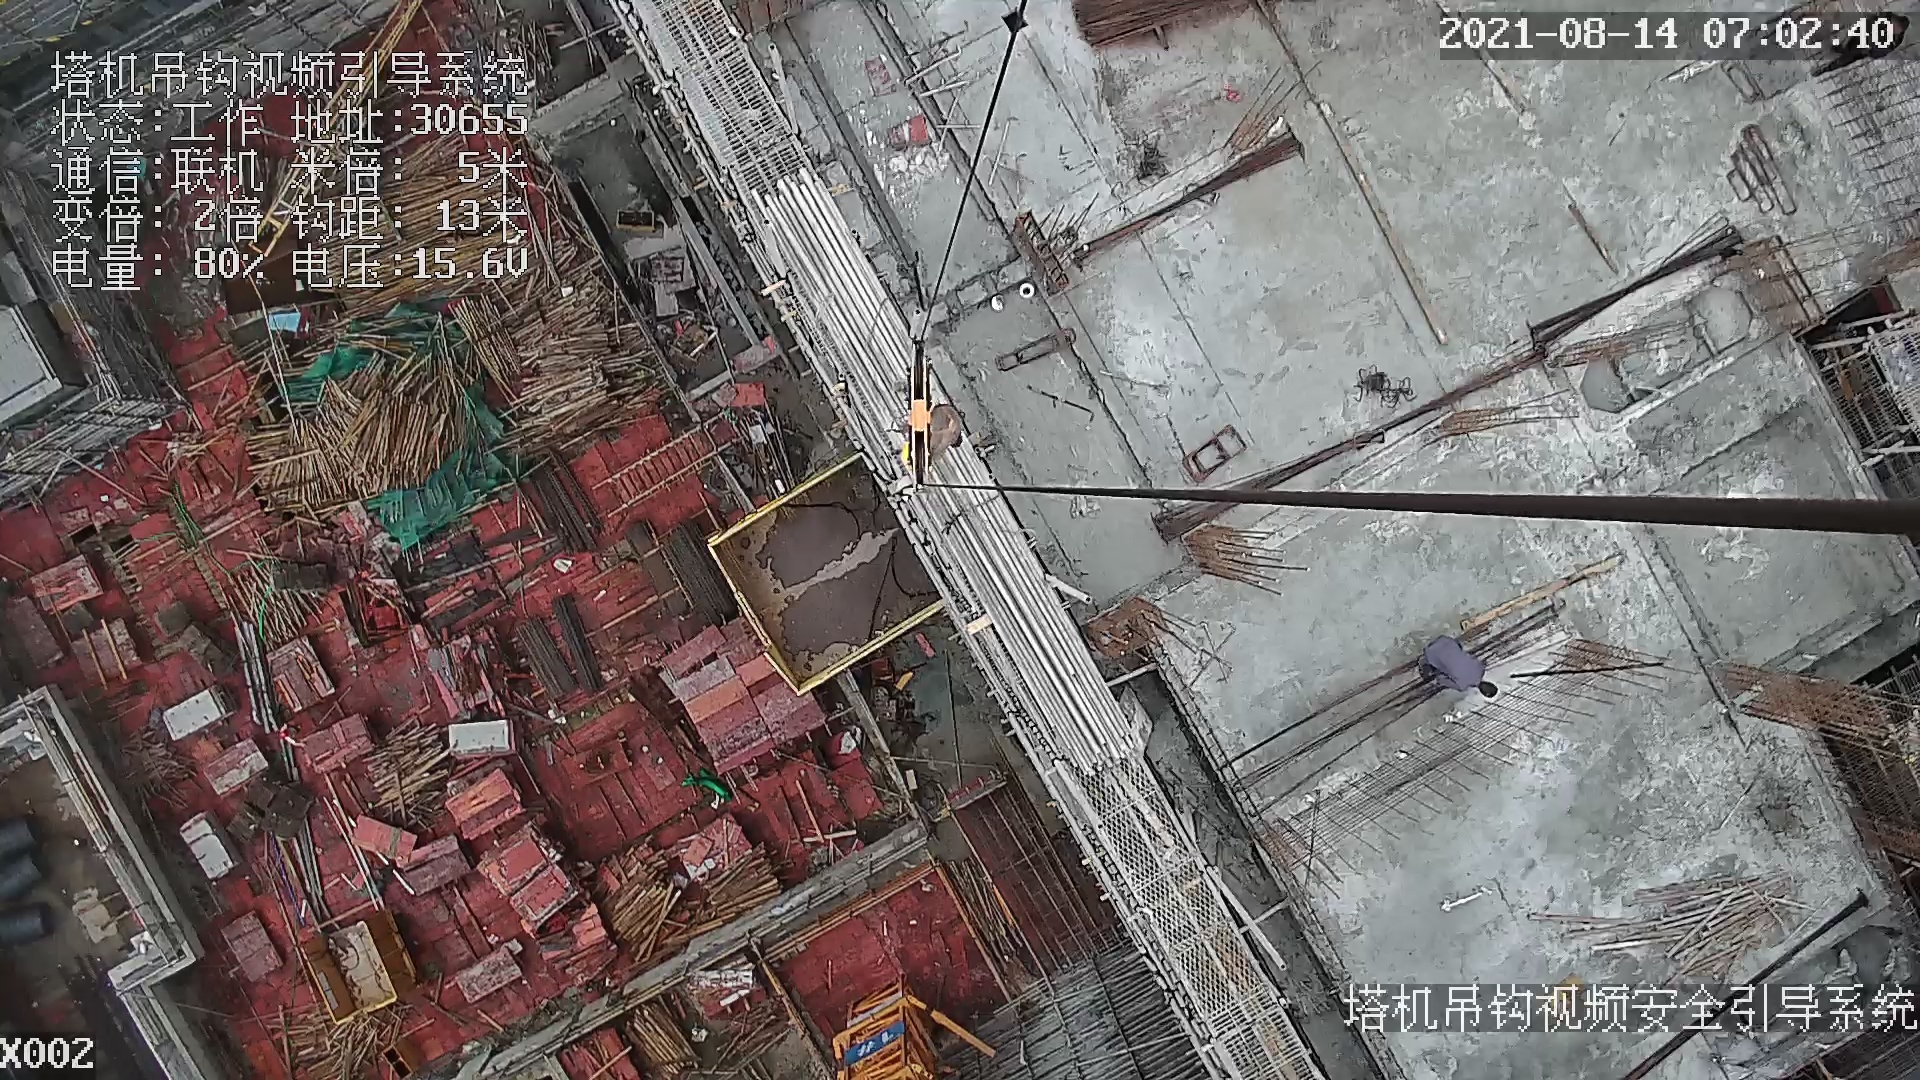hook: (899, 345, 938, 485)
person: (1420, 636, 1495, 697)
slogan: (842, 1013, 900, 1069)
